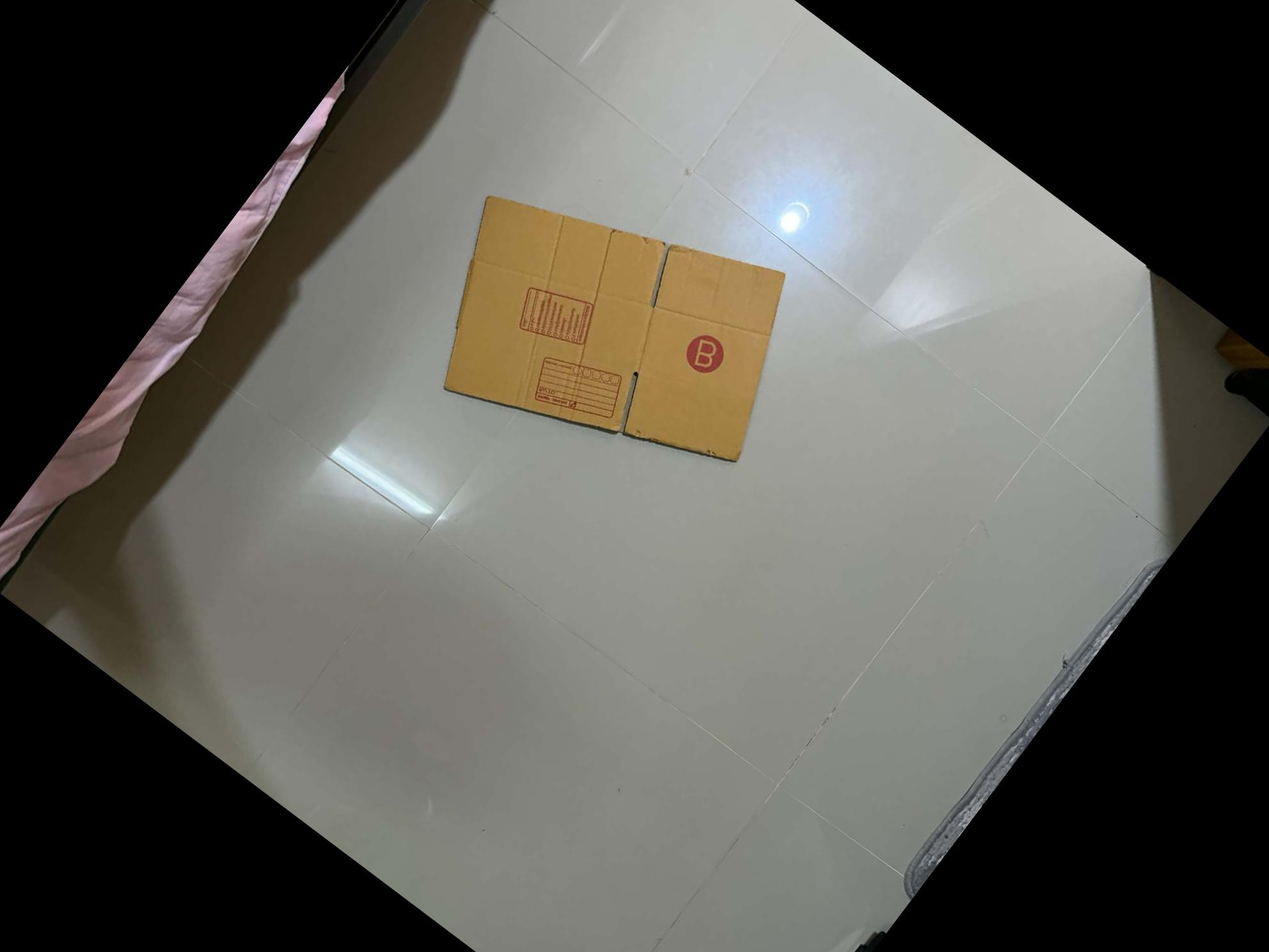box: (522, 333, 638, 444), (505, 266, 607, 363), (676, 328, 731, 382)
class0: (370, 93, 857, 568)
